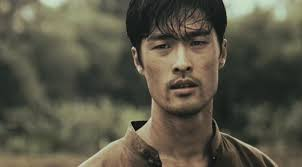bare: (141, 57, 224, 114)
